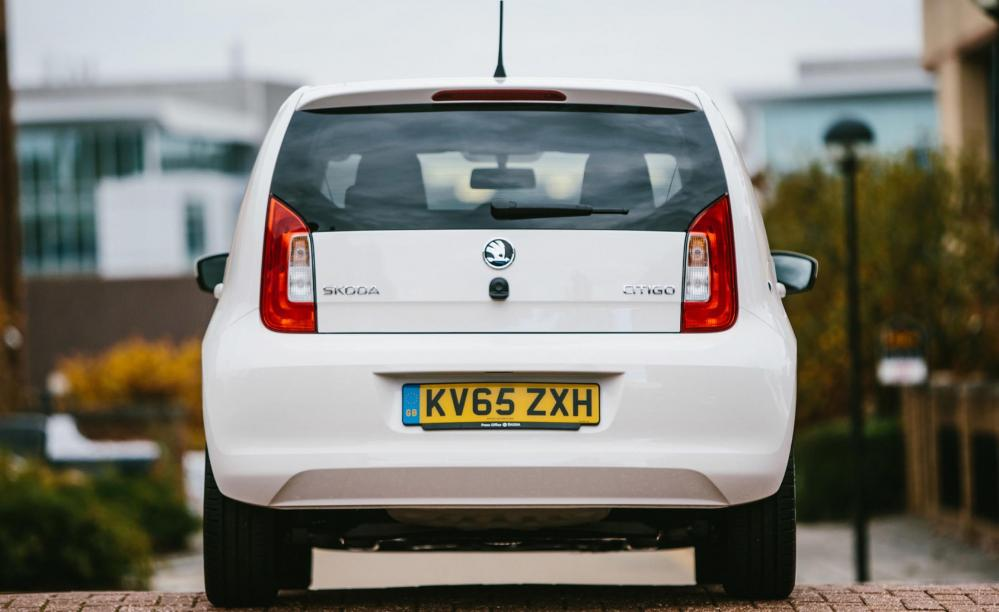car: (195, 73, 801, 596)
